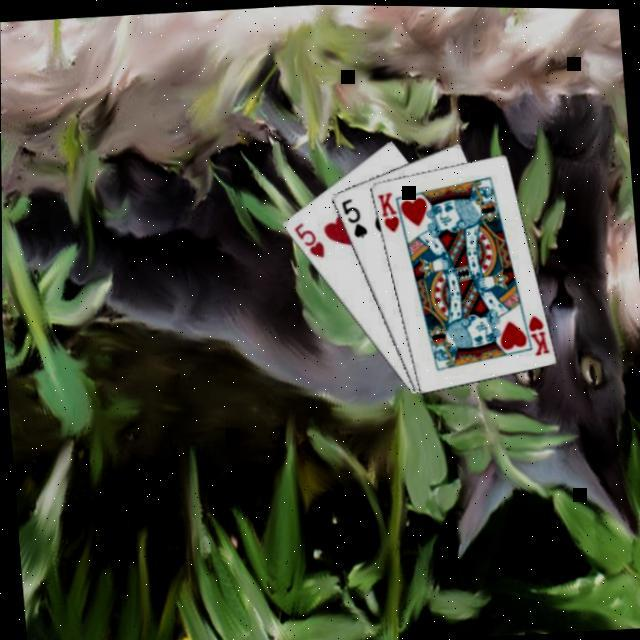5H: (292, 218, 328, 262)
5S: (338, 194, 372, 242)
KH: (376, 188, 403, 236), (525, 311, 552, 358)
